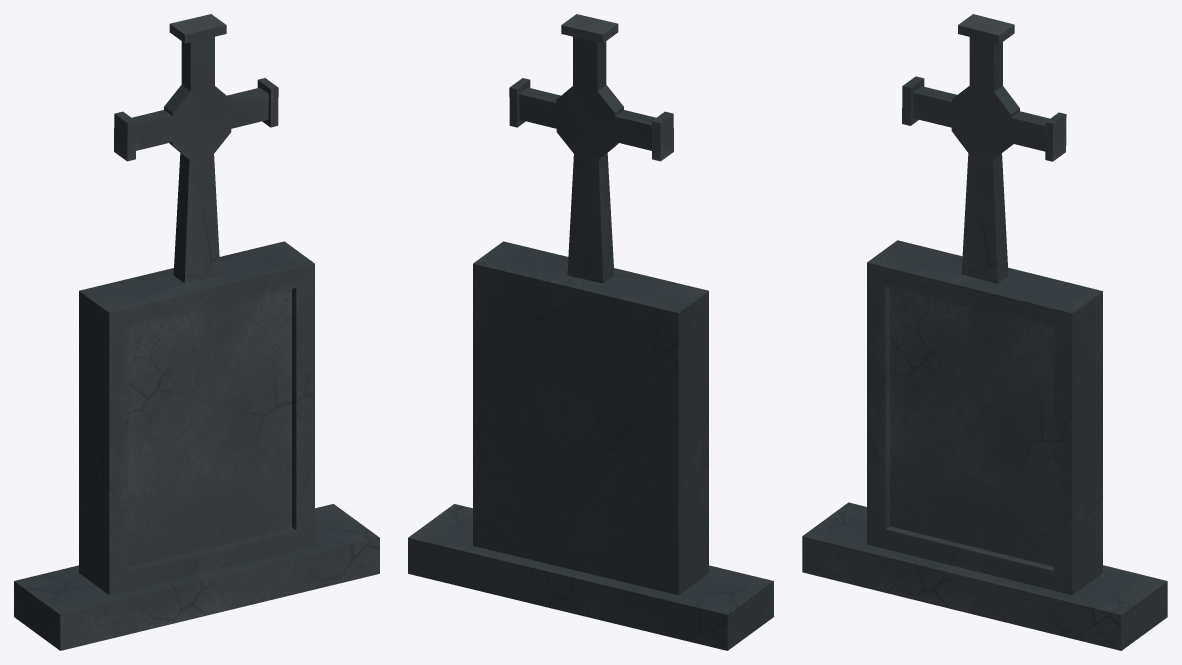
Rendered from Gravestone6_Model.fbx.
The picture shows the model from 3 angles, left to right: view 1: azimuth 30°, elevation 25°; view 2: azimuth 150°, elevation 25°; view 3: azimuth 330°, elevation 25°; orthographic projection.
Parts seen in each view (by area): view 1: Gravestone6; view 2: Gravestone6; view 3: Gravestone6.
Part boxes in pixels (<box>): Gravestone6: <box>14,14,379,650</box>; Gravestone6: <box>408,14,773,650</box>; Gravestone6: <box>802,14,1167,650</box>.
Size of the model in its own units: 101 by 172 by 25.33.
